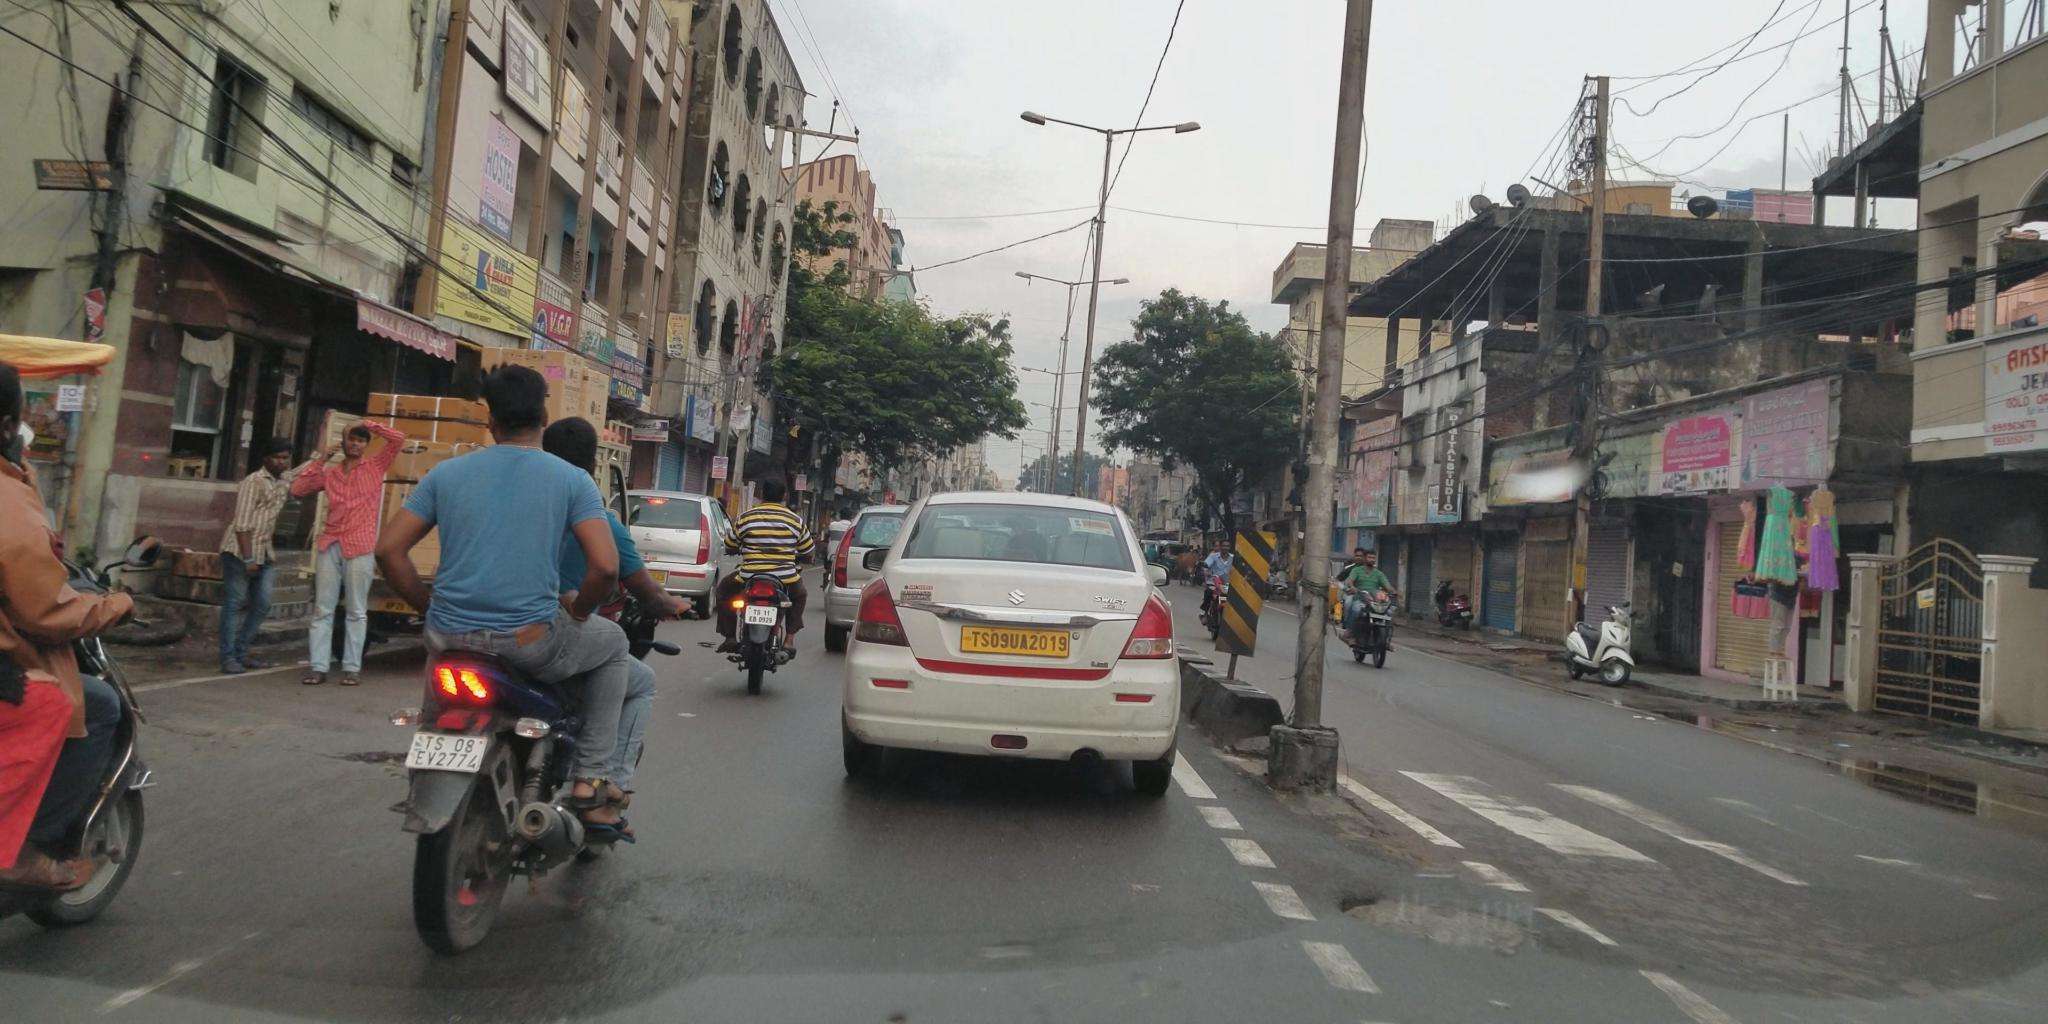off: (0, 0, 2048, 999)
